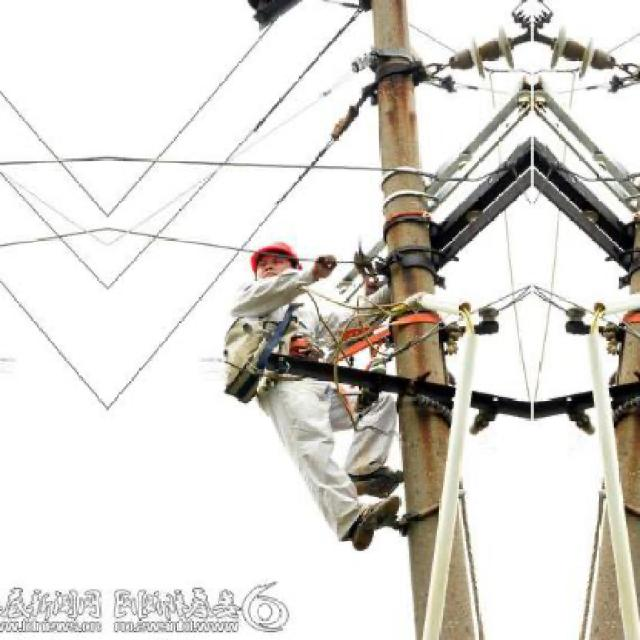con casco: (240, 228, 318, 300)
